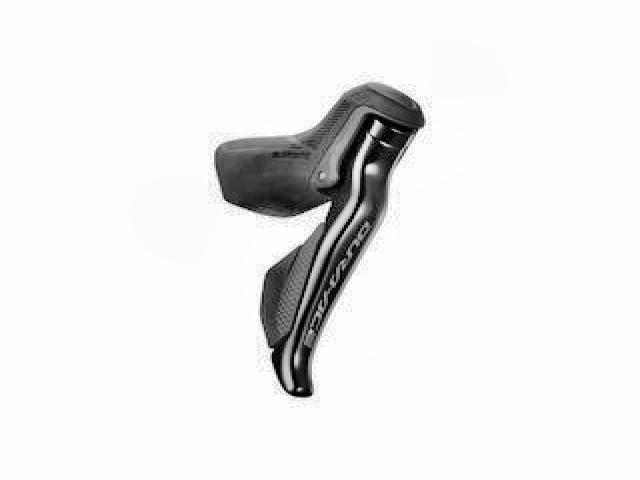sti_shifter: (212, 83, 429, 401)
